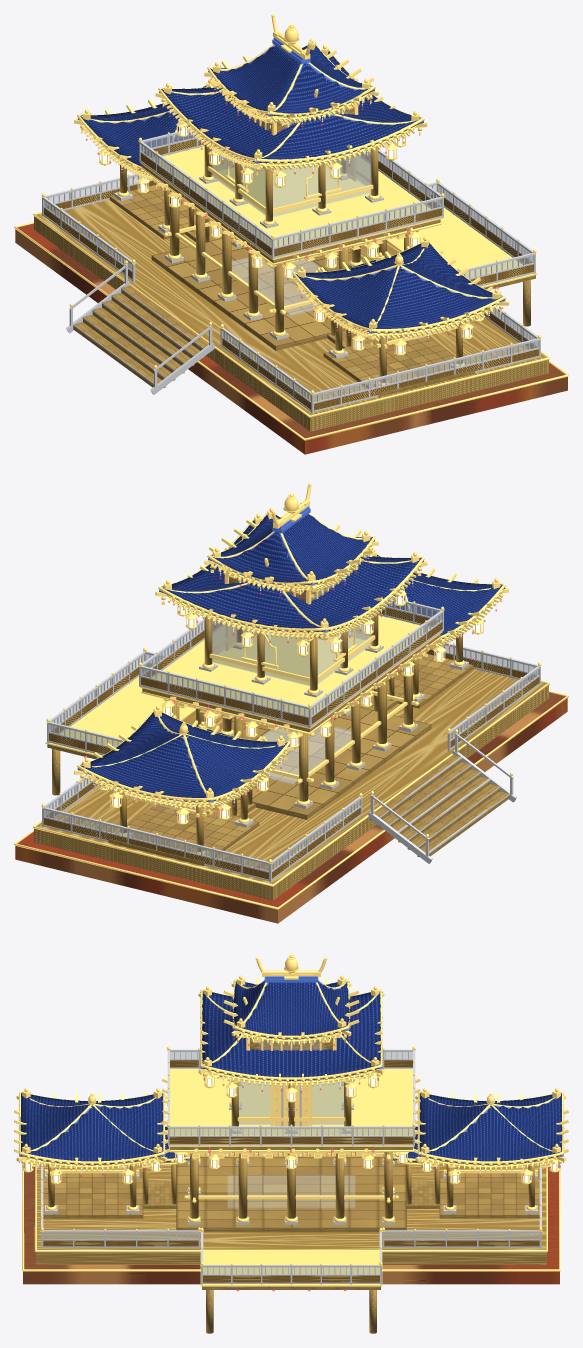
Rendered from pavilion.glb.
3 views of the same model, one above another, from view 1: azimuth 30°, elevation 25°; view 2: azimuth 150°, elevation 25°; view 3: azimuth 270°, elevation 25° (orthographic). The views are drawn at different scales.
Parts seen in each view (by area): view 1: podium2, podium1, terracetrim, roof.002, roof, hallfloor, roof.001, sidefloor, stagetrim, wall.002, roof.004, sidefloor.001 (+30 smaller); view 2: podium2, podium1, terracetrim, roof.004, roof, hallfloor, roof.001, sidefloor.001, stagetrim, wall.003, roof.002, hallinlay (+30 smaller); view 3: podium2, hallfloor, terracetrim, podium1, roof.002, roof.004, roof, roof.001, stagetrim, sidefloor, sidefloor.001, hallinlay (+31 smaller).
Part boxes in pixels (<box>): podium2: <box>34,200,548,431</box>; podium1: <box>15,223,567,454</box>; terracetrim: <box>140,146,442,259</box>; roof.002: <box>295,243,502,332</box>; roof: <box>161,51,421,162</box>; hallfloor: <box>151,237,365,350</box>; roof.001: <box>210,45,372,116</box>; sidefloor: <box>323,335,474,396</box>; stagetrim: <box>387,207,537,287</box>; wall.002: <box>273,149,371,216</box>; roof.004: <box>80,86,205,171</box>; sidefloor.001: <box>109,185,211,239</box>; podium2: <box>34,669,548,900</box>; podium1: <box>15,692,567,923</box>; terracetrim: <box>140,615,442,728</box>; roof.004: <box>80,712,287,801</box>; roof: <box>161,520,421,631</box>; hallfloor: <box>218,706,431,819</box>; roof.001: <box>210,514,372,585</box>; sidefloor.001: <box>108,804,259,865</box>; stagetrim: <box>45,676,195,755</box>; wall.003: <box>211,618,309,685</box>; roof.002: <box>368,555,502,638</box>; hallinlay: <box>257,726,361,784</box>; podium2: <box>36,1152,546,1264</box>; hallfloor: <box>176,1157,406,1232</box>; terracetrim: <box>168,1069,414,1146</box>; podium1: <box>23,1163,559,1284</box>; roof.002: <box>20,1093,163,1164</box>; roof.004: <box>419,1093,562,1164</box>; roof: <box>202,991,380,1080</box>; roof.001: <box>234,981,348,1038</box>; stagetrim: <box>200,1249,382,1286</box>; sidefloor: <box>43,1172,143,1218</box>; sidefloor.001: <box>439,1172,539,1218</box>; hallinlay: <box>227,1175,355,1208</box>.
Bounding box in the file's own units: 15.9 × 12.67 × 21.71.
23 materials, 7 textured.
